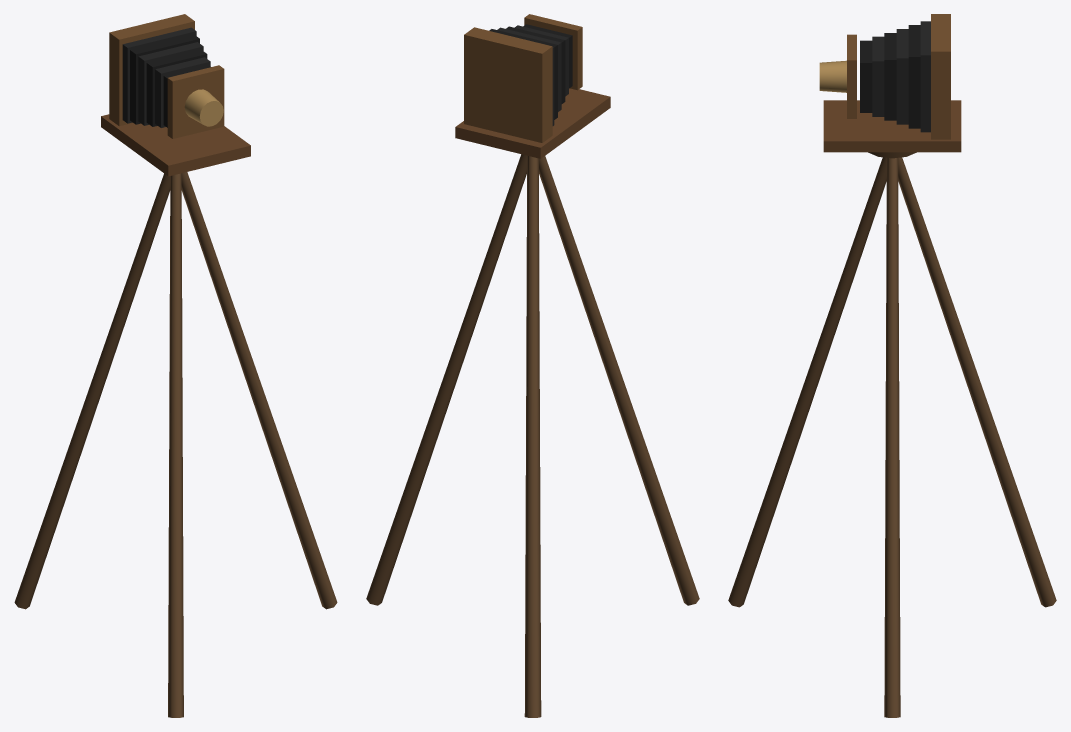
File: photo-station.glb
3 renders of one model, left to right at view 1: azimuth 30°, elevation 25°; view 2: azimuth 150°, elevation 25°; view 3: azimuth 270°, elevation 25°, orthographic. The views are drawn at different scales.
Visible parts, largest first — view 1: photo-station; view 2: photo-station; view 3: photo-station.
Part boxes in pixels (x1,y1,x2,y2): photo-station: (14, 14, 337, 717); photo-station: (366, 14, 699, 717); photo-station: (728, 14, 1056, 717).
Bounding box in the file's own units: 0.7038 × 1.66 × 0.8121.
